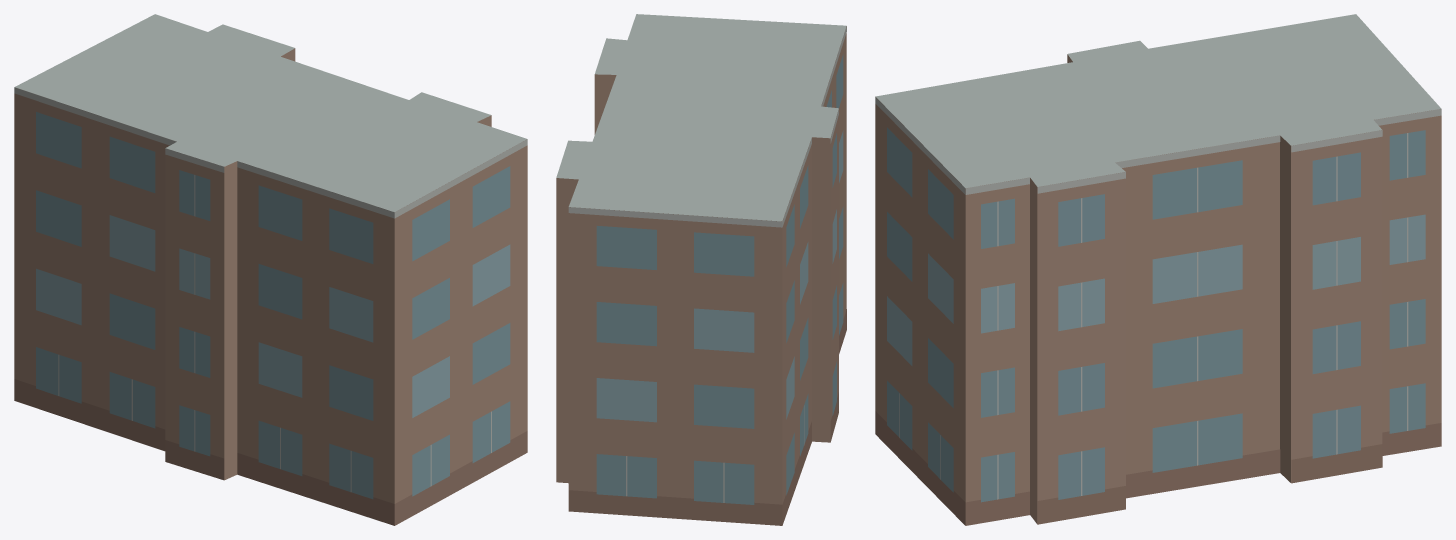
The model's file is survey-upis-32752157.glb.
3 renders of one model, left to right at view 1: azimuth 30°, elevation 25°; view 2: azimuth 150°, elevation 25°; view 3: azimuth 270°, elevation 25°, orthographic. The views are drawn at different scales.
Visible parts, largest first — view 1: survey-upis-32752157.tmp; view 2: survey-upis-32752157.tmp; view 3: survey-upis-32752157.tmp.
Part boxes in pixels (x1,y1,x2,y2): survey-upis-32752157.tmp: [14, 14, 527, 525]; survey-upis-32752157.tmp: [556, 14, 846, 525]; survey-upis-32752157.tmp: [875, 14, 1441, 525].
Size of the model in its own units: 13.52 by 12.2 by 18.56.
